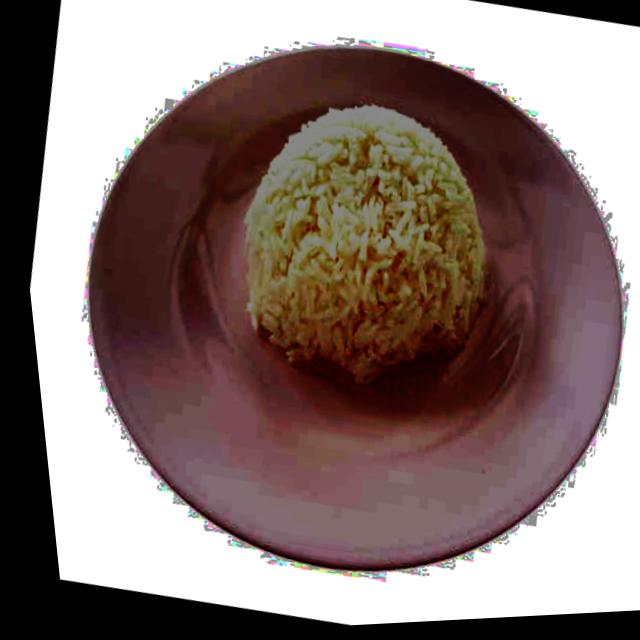rice: (203, 74, 533, 414)
